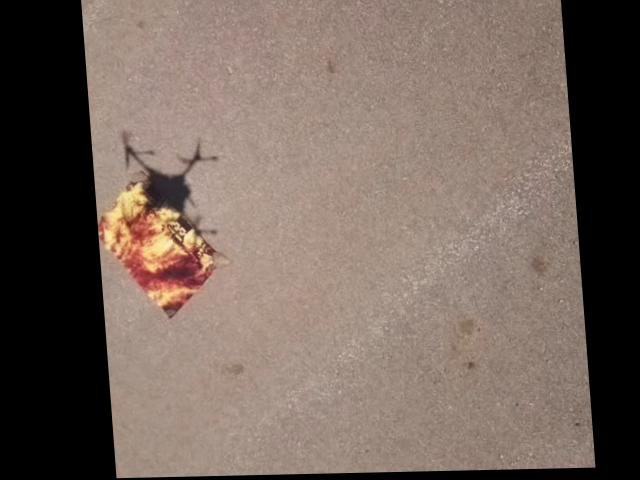fire-poster: (90, 175, 225, 322)
